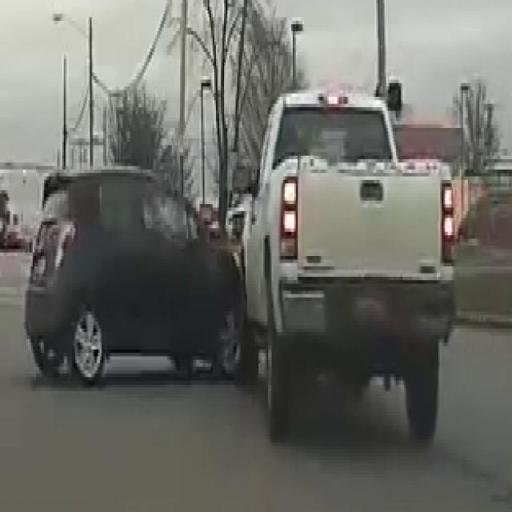小汽车撞小汽车: (28, 92, 451, 446)
